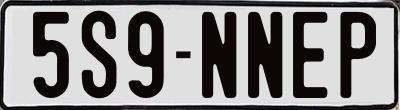5: (32, 11, 70, 100)
9: (126, 11, 167, 103)
E: (291, 10, 325, 101)
N: (201, 11, 241, 103), (246, 9, 282, 98)
P: (340, 12, 376, 101)
S: (80, 10, 116, 97)
